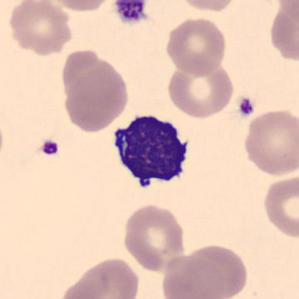Lymphocyte: (106, 106, 196, 198)
Platelets: (111, 0, 150, 26), (236, 95, 256, 119), (38, 138, 61, 158)
RBC: (61, 55, 131, 134), (120, 201, 188, 274), (165, 59, 236, 120), (241, 106, 298, 178), (164, 15, 228, 77), (182, 242, 251, 298), (5, 0, 74, 56), (59, 255, 142, 299), (159, 254, 226, 299), (261, 173, 298, 240), (270, 8, 299, 63), (44, 0, 117, 14), (175, 0, 240, 14), (274, 0, 298, 26)
